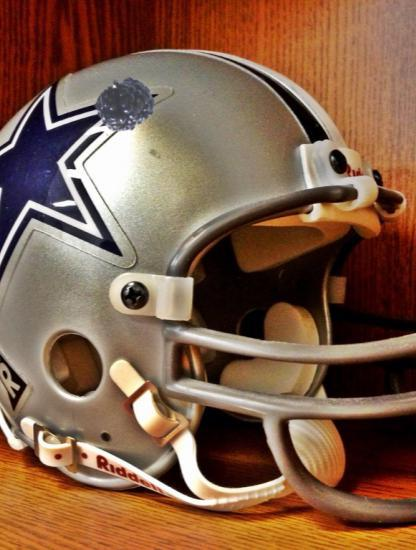Mulberry: (91, 78, 164, 151)
